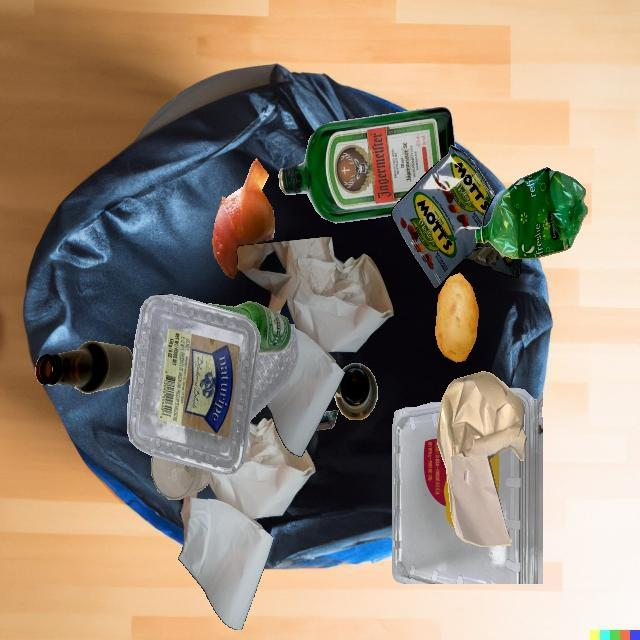biowaste: (212, 158, 275, 279), (435, 273, 479, 362)
cardboard: (315, 410, 339, 431)
glass: (278, 107, 455, 223), (35, 341, 133, 394), (199, 301, 292, 354), (151, 456, 212, 499), (334, 363, 377, 420)
paper: (236, 237, 394, 456), (179, 417, 316, 630), (437, 371, 526, 547)
plastic: (392, 388, 543, 584), (127, 294, 260, 474), (475, 167, 588, 259), (250, 324, 298, 421)
trash: (391, 145, 521, 290)
